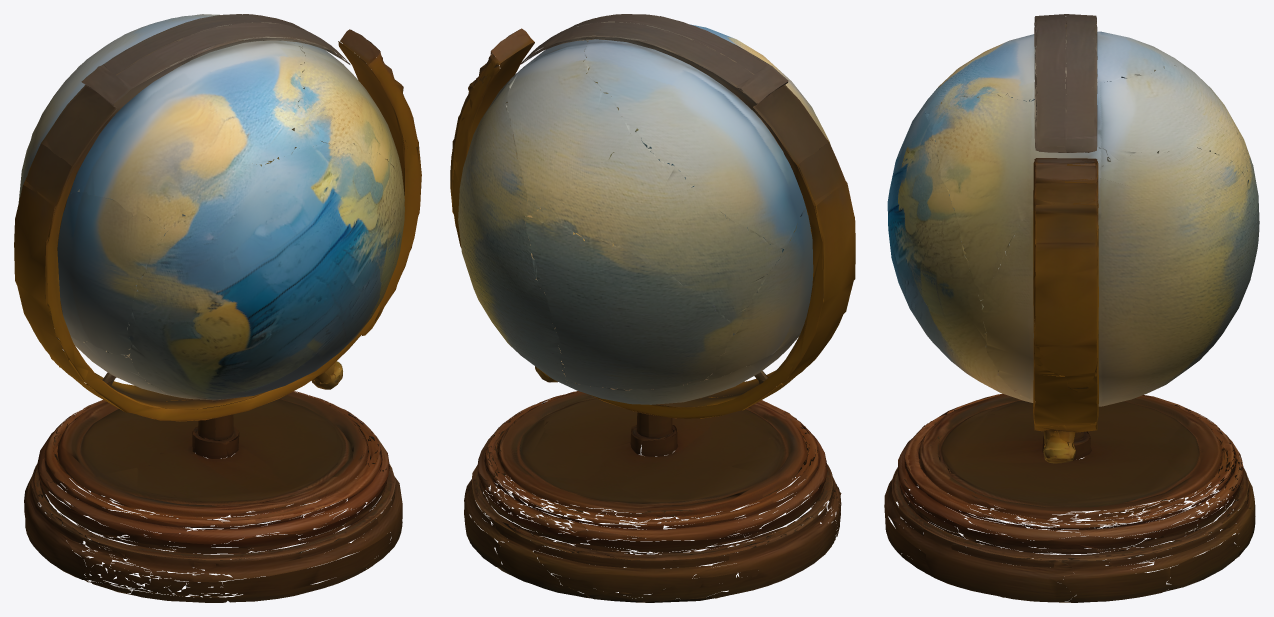
Rendered from hunyuan-globe.glb.
3 renders of one model, left to right at view 1: azimuth 30°, elevation 25°; view 2: azimuth 150°, elevation 25°; view 3: azimuth 270°, elevation 25°, orthographic. The views are drawn at different scales.
Visible parts, largest first — view 1: node_0; view 2: node_0; view 3: node_0.
Part boxes in pixels (x1,y1,x2,y2): node_0: (14,14,421,602); node_0: (450,14,855,602); node_0: (884,14,1259,602).
Bounding box in the file's own units: 0.7891 × 0.989 × 0.6895.
Materials: 1 (1 with a texture image).
